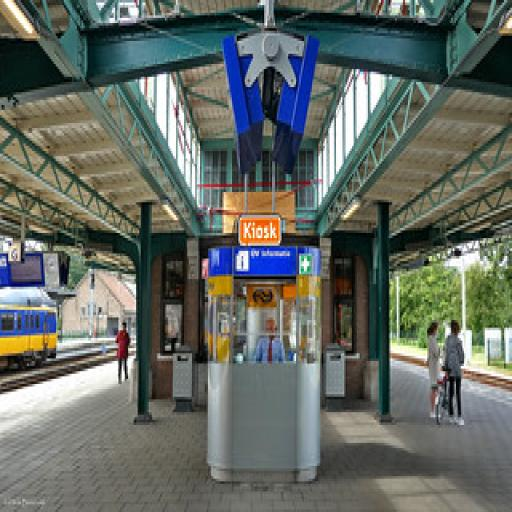platform_edge: (0, 345, 110, 402)
